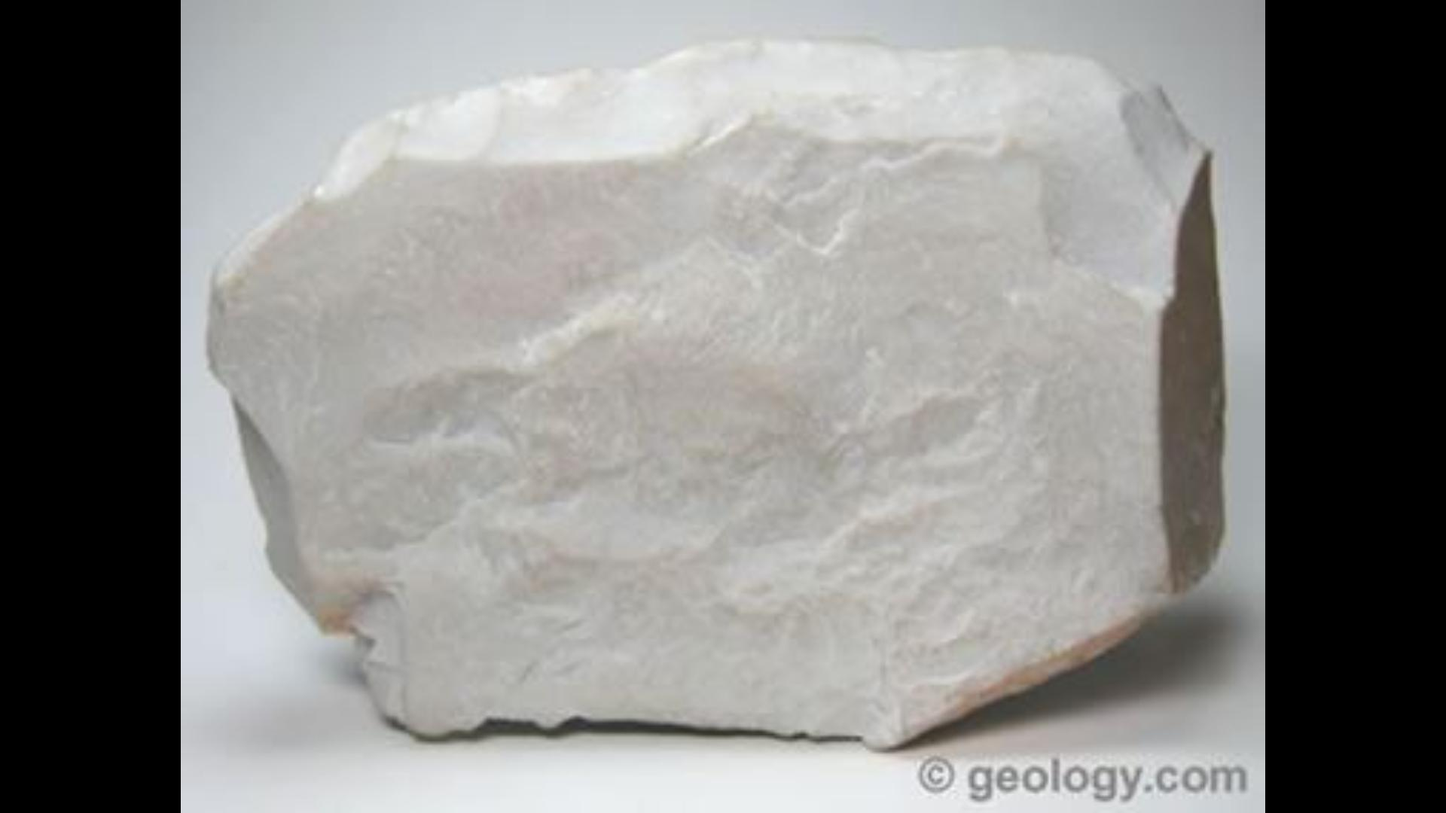rock: (209, 43, 1222, 745)
